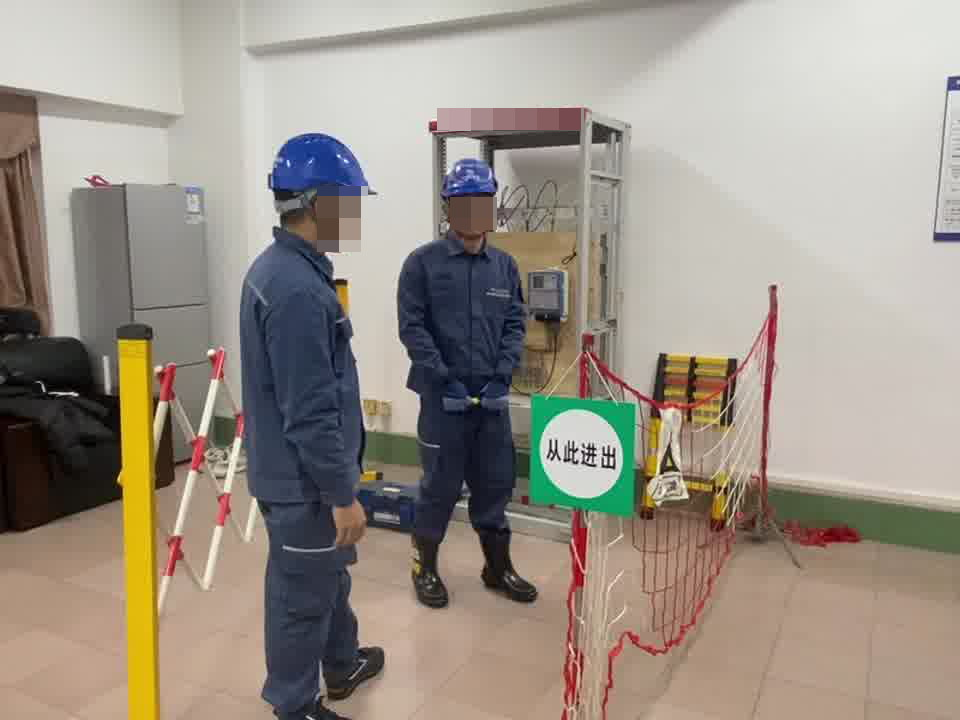downsuit: (257, 505, 361, 714), (413, 399, 520, 533)
glove: (440, 378, 513, 413)
halt: (265, 131, 376, 249), (439, 157, 502, 243)
hand: (332, 505, 369, 553)
inear: (299, 187, 339, 243)
intosign: (532, 393, 635, 510)
person: (238, 127, 384, 720), (396, 155, 534, 609)
shoe: (475, 533, 541, 605), (401, 537, 452, 604)
upsuit: (240, 241, 364, 501), (399, 240, 525, 405)
